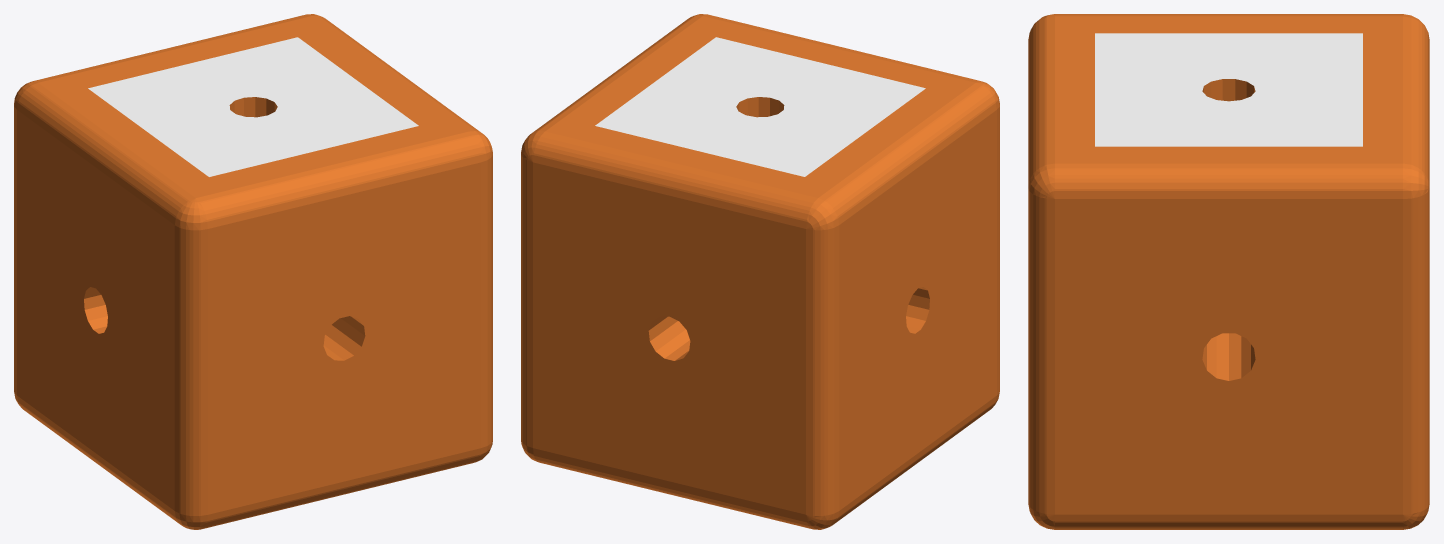
Rendered from irb120pe_WhiteCube.dae.
The picture shows the model from 3 angles, left to right: view 1: azimuth 30°, elevation 25°; view 2: azimuth 150°, elevation 25°; view 3: azimuth 270°, elevation 25°; orthographic projection. The views are drawn at different scales.
Parts seen in each view (by area): view 1: node; view 2: node; view 3: node.
Part boxes in pixels (x1,y1,x2,y2): node: (14, 14, 492, 529); node: (521, 14, 999, 529); node: (1028, 14, 1429, 529).
Bounding box in the file's own units: 0.03 × 0.03 × 0.03.
